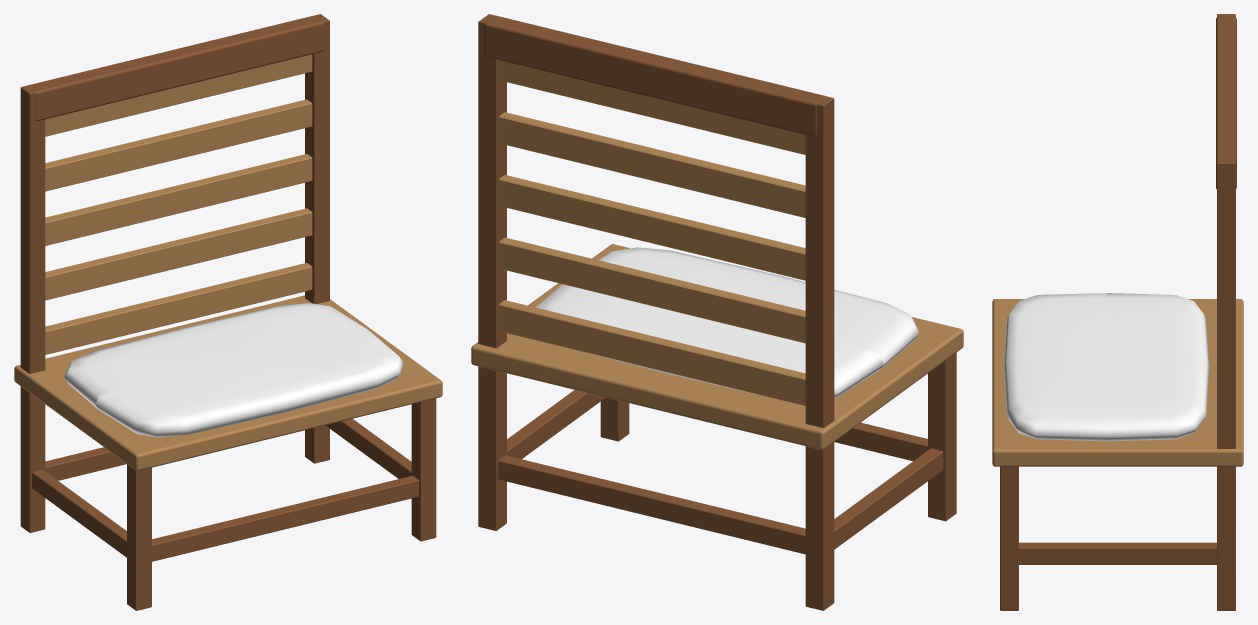
File: cabin-ladder-chair.glb
3 renders of one model, left to right at view 1: azimuth 30°, elevation 25°; view 2: azimuth 150°, elevation 25°; view 3: azimuth 270°, elevation 25°, orthographic. The views are drawn at different scales.
Parts seen in each view (by area): view 1: seat.pad, seat, back.rail.top, post.back.left, back.slat.1, back.slat.2, back.slat.3, back.slat.4, post.back.right, stretcher.front, back.slat.5, leg.front.left (+4 smaller); view 2: seat, seat.pad, back.rail.top, post.back.left, post.back.right, back.slat.2, back.slat.4, back.slat.1, back.slat.3, stretcher.back, back.slat.5, leg.front.left (+4 smaller); view 3: seat.pad, seat, post.back.right, stretcher.side.right, back.rail.top, leg.front.right.
Part boxes in pixels (<box>): seat.pad: <box>64,303,403,437</box>; seat: <box>14,295,442,470</box>; back.rail.top: <box>27,15,324,121</box>; post.back.left: <box>20,85,45,532</box>; back.slat.1: <box>45,263,312,354</box>; back.slat.2: <box>45,208,312,300</box>; back.slat.3: <box>45,154,312,245</box>; back.slat.4: <box>45,99,312,191</box>; post.back.right: <box>305,14,329,463</box>; stretcher.front: <box>152,475,418,561</box>; back.slat.5: <box>45,54,312,136</box>; leg.front.left: <box>127,464,151,610</box>; seat: <box>471,244,963,449</box>; seat.pad: <box>535,247,919,398</box>; back.rail.top: <box>484,15,826,137</box>; post.back.left: <box>805,96,834,610</box>; post.back.right: <box>478,14,506,530</box>; back.slat.2: <box>498,237,805,343</box>; back.slat.4: <box>498,112,805,217</box>; back.slat.1: <box>498,300,805,405</box>; back.slat.3: <box>498,175,805,280</box>; stretcher.back: <box>498,455,805,554</box>; back.slat.5: <box>498,60,805,154</box>; leg.front.left: <box>928,352,956,521</box>; seat.pad: <box>1004,293,1209,441</box>; seat: <box>992,299,1243,466</box>; post.back.right: <box>1217,160,1235,610</box>; stretcher.side.right: <box>1019,542,1216,564</box>; back.rail.top: <box>1216,16,1236,189</box>; leg.front.right: <box>1000,466,1018,610</box>.
Size of the model in its own units: 0.95 by 1.3 by 0.66.
